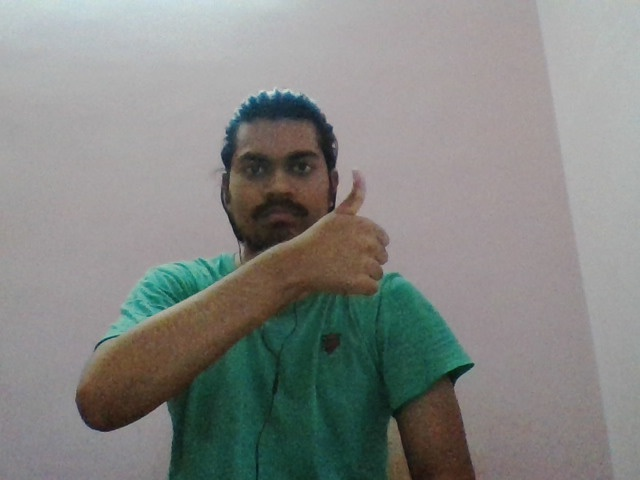ThumbsUp: (312, 168, 391, 302)
